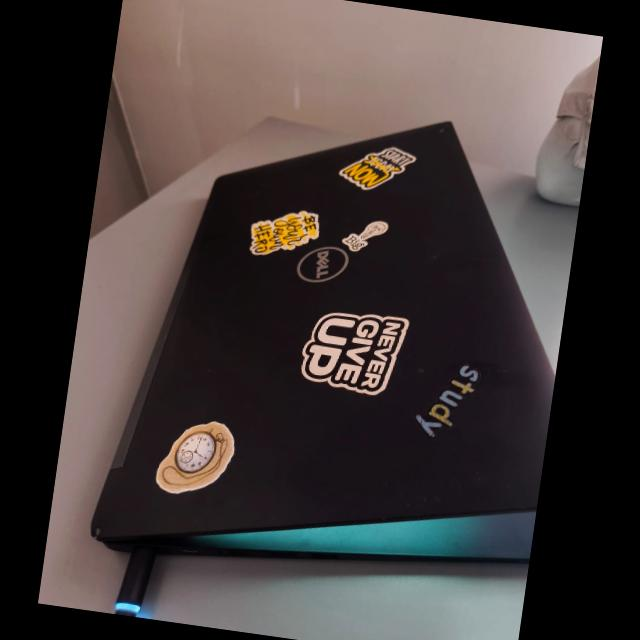laptop: (110, 29, 534, 606)
